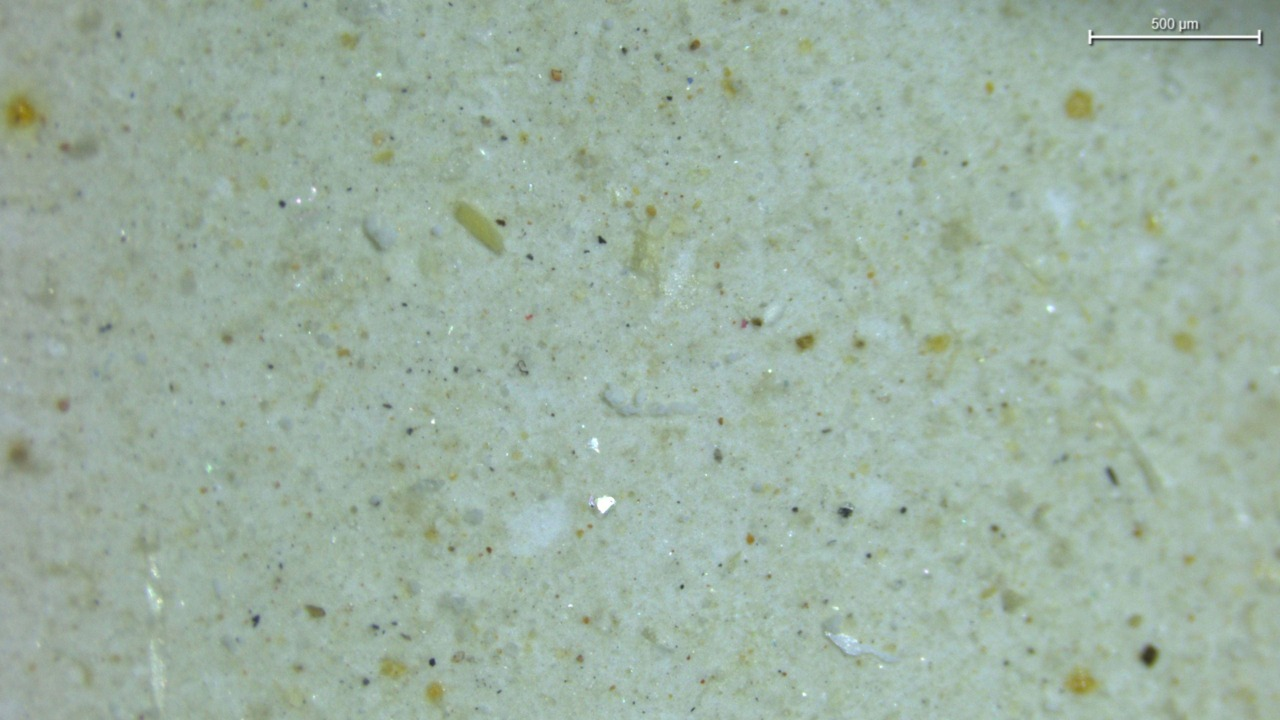microplastic_fragment: (602, 385, 698, 416), (362, 213, 398, 251)
